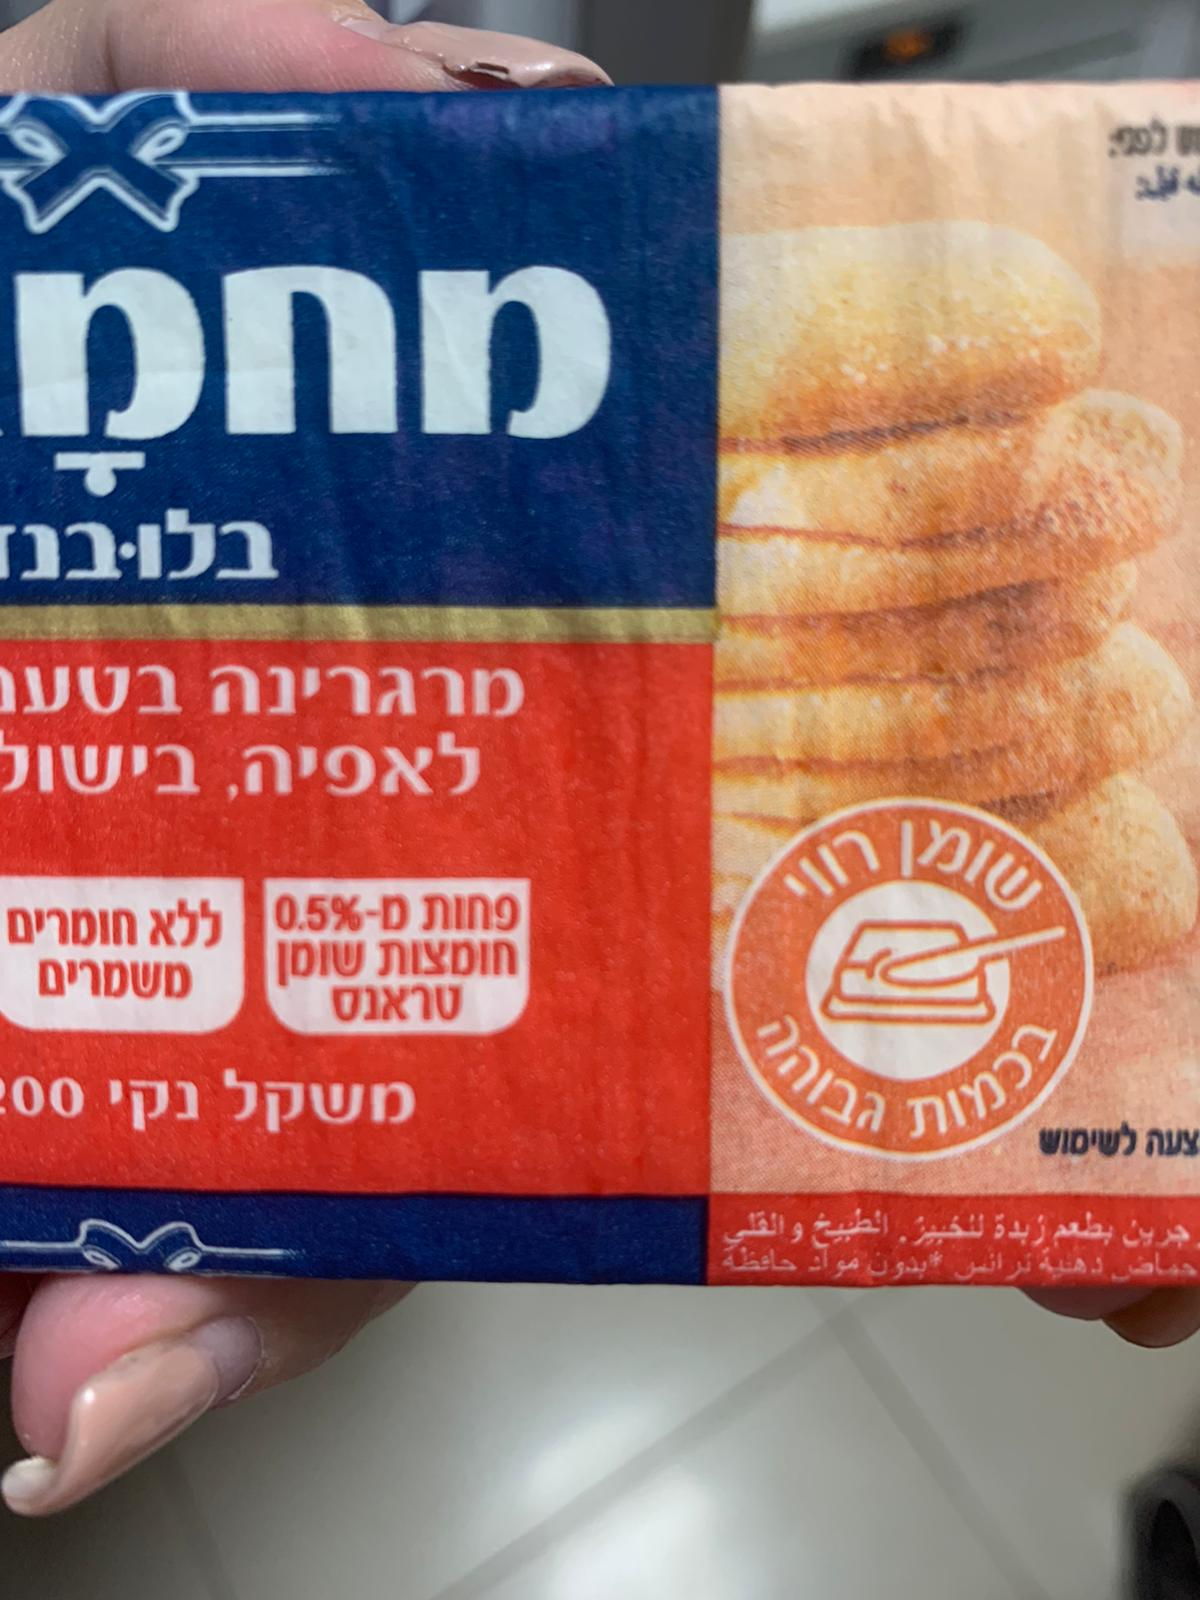fat: (722, 796, 1097, 1163)
